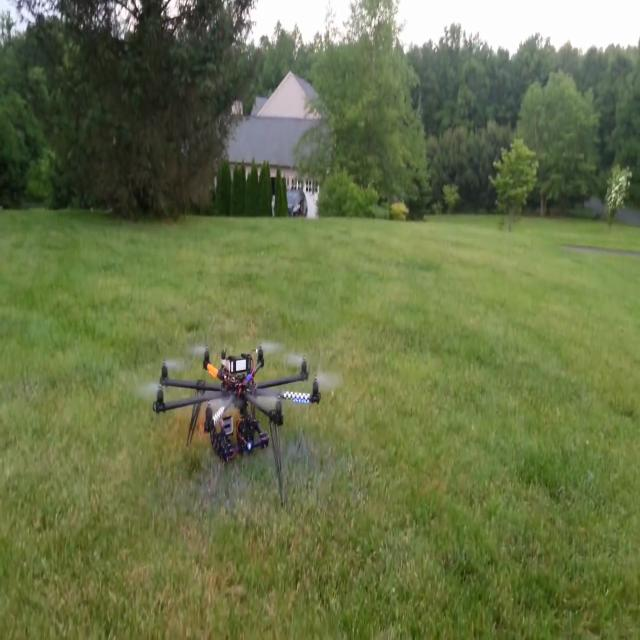drone: (148, 330, 328, 490)
